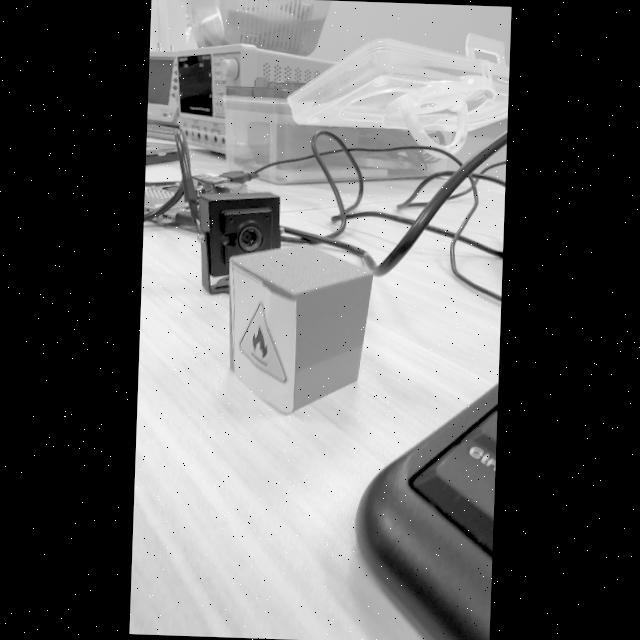Fire: (239, 302, 286, 383)
